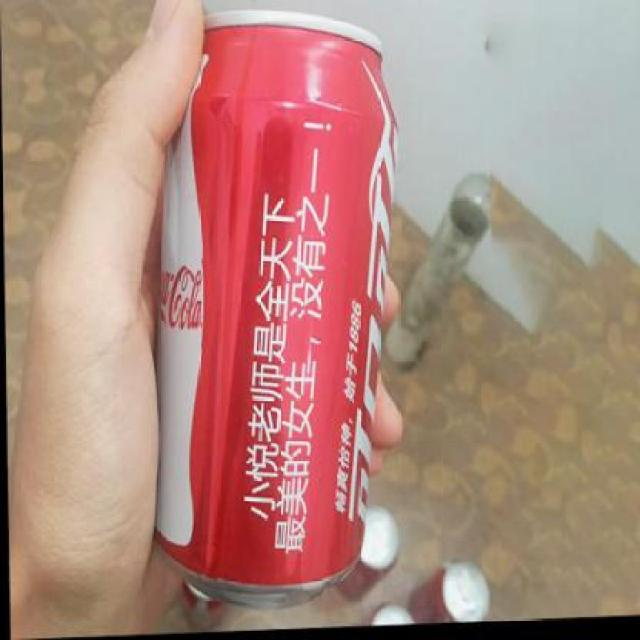Metal: (147, 6, 406, 612)
